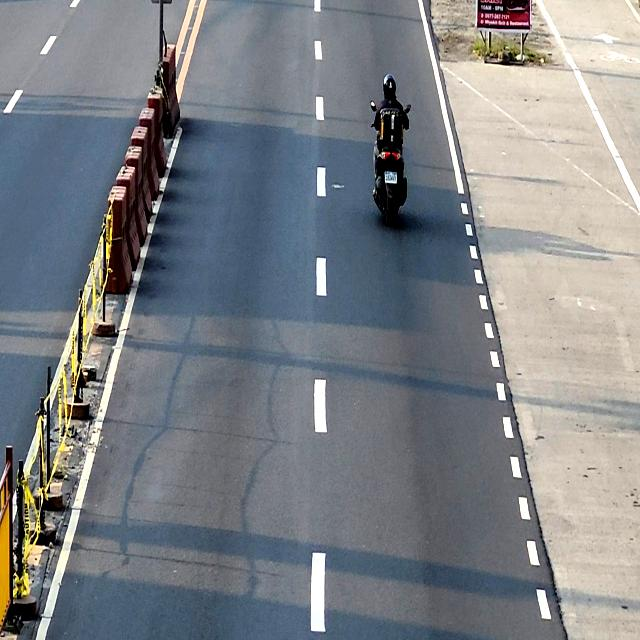License-Plate: (383, 172, 397, 184)
Motorcycle: (370, 100, 411, 223)
